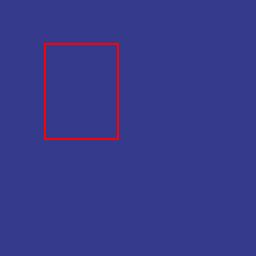Fire: (44, 43, 118, 139)
